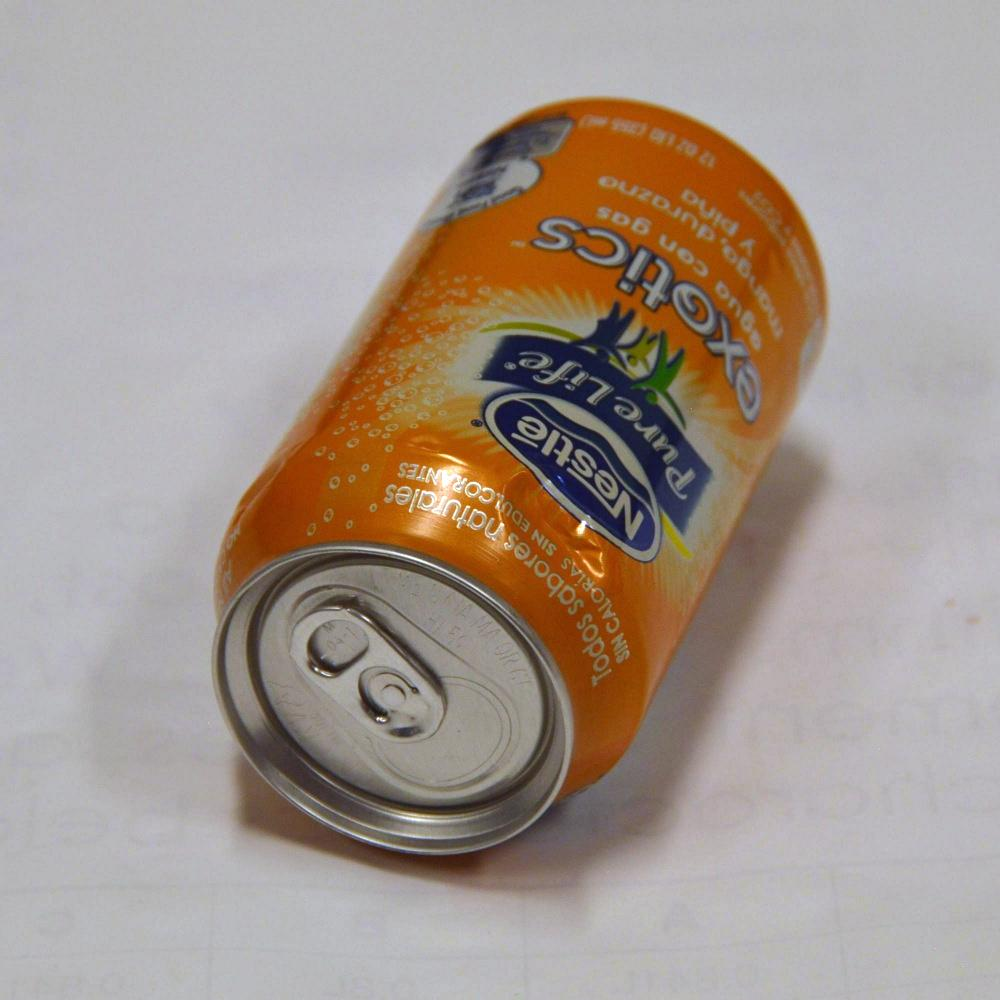Metal: (201, 85, 833, 855)
